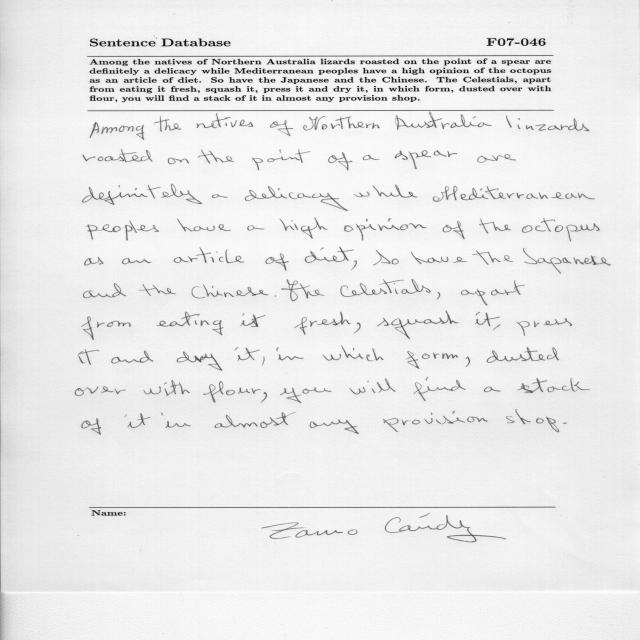word: (433, 186, 595, 202), (245, 186, 348, 211), (83, 184, 202, 205), (523, 248, 611, 274), (383, 411, 488, 432), (344, 218, 427, 241), (391, 311, 459, 339), (522, 218, 600, 241), (395, 112, 492, 130), (461, 280, 525, 306), (340, 279, 431, 297), (157, 312, 224, 336), (294, 312, 361, 335), (86, 221, 159, 241), (215, 412, 296, 428), (414, 377, 466, 401), (506, 116, 589, 131), (252, 149, 311, 170), (506, 410, 559, 433), (81, 316, 131, 340), (305, 247, 357, 270), (395, 150, 457, 169), (192, 284, 269, 299), (487, 347, 559, 363), (174, 247, 244, 263), (517, 378, 590, 393), (303, 116, 380, 130), (280, 218, 328, 239), (203, 381, 250, 402), (90, 122, 144, 140), (282, 280, 325, 302), (406, 351, 458, 369), (177, 351, 223, 371), (323, 346, 384, 361), (83, 150, 152, 163), (196, 113, 253, 128), (354, 185, 417, 198), (280, 388, 332, 403), (143, 380, 190, 396), (349, 379, 396, 395), (310, 419, 359, 434), (177, 219, 231, 232), (411, 252, 468, 264), (83, 283, 126, 298), (473, 250, 514, 265), (111, 351, 153, 364), (235, 348, 265, 366), (75, 386, 126, 396), (198, 150, 234, 164), (479, 219, 511, 234), (328, 153, 353, 171), (476, 312, 501, 330), (161, 413, 191, 428), (139, 284, 176, 296), (154, 116, 181, 132), (443, 221, 465, 239), (266, 254, 289, 271), (125, 413, 151, 428), (270, 120, 293, 136), (477, 154, 516, 163), (240, 313, 265, 327), (534, 318, 572, 327), (79, 349, 100, 365), (82, 418, 101, 435), (373, 250, 391, 265), (252, 388, 267, 403), (516, 321, 530, 336), (122, 258, 151, 264), (85, 257, 103, 266), (278, 355, 304, 361), (168, 158, 189, 164), (377, 318, 390, 326), (247, 226, 265, 231), (363, 155, 380, 160), (484, 387, 501, 392), (212, 194, 228, 198), (466, 357, 470, 368), (392, 259, 399, 265), (437, 292, 441, 300), (276, 348, 279, 352), (564, 422, 567, 424), (275, 296, 276, 297)
